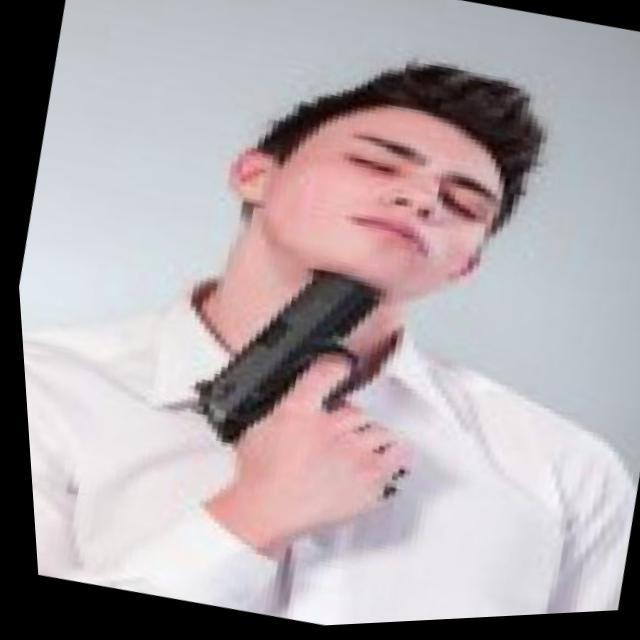weapon: (147, 233, 459, 534)
